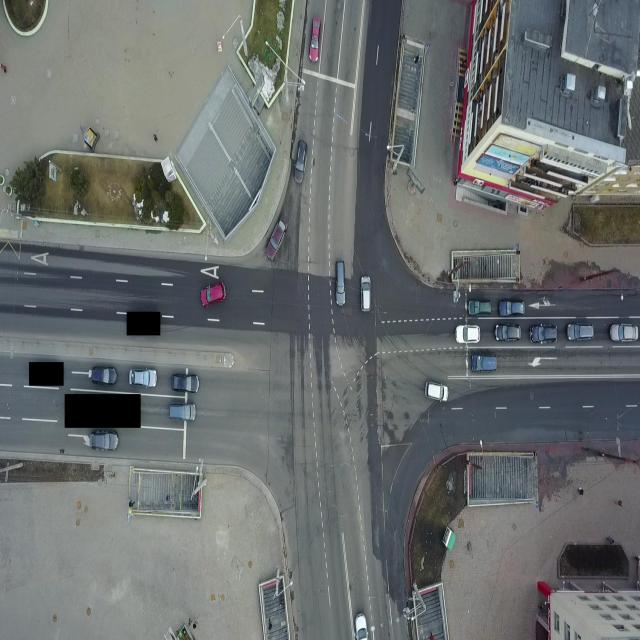car: (266, 218, 286, 261), (169, 371, 200, 395), (88, 428, 119, 451), (128, 365, 157, 389), (333, 258, 347, 307), (608, 321, 639, 343), (529, 322, 557, 346), (167, 400, 196, 423), (468, 351, 498, 373), (308, 15, 322, 62), (200, 282, 226, 307), (293, 138, 307, 184), (494, 321, 522, 343), (90, 364, 118, 386), (566, 320, 594, 340), (358, 274, 372, 314), (455, 324, 480, 346), (498, 298, 524, 318), (425, 380, 448, 402), (352, 611, 370, 639), (466, 298, 492, 316)
